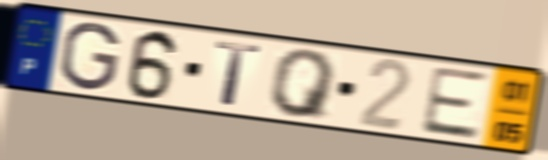2: (355, 57, 416, 134)
6: (125, 27, 182, 103)
E: (417, 63, 490, 142)
G: (57, 20, 123, 93)
Q: (268, 48, 340, 123)
T: (212, 39, 265, 109)
